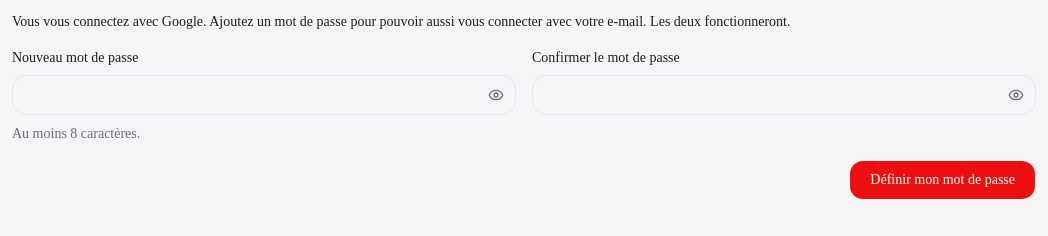
it: PasswordCard › lets a Google account set its first password, then switches to the change form
expect the field labelled "Mot de passe actuel" is not shown: met
Step 1. Type "GoogleThenLocal2026!" into the password field labelled "Nouveau mot de passe" → (264, 95), box [12,75,516,115]
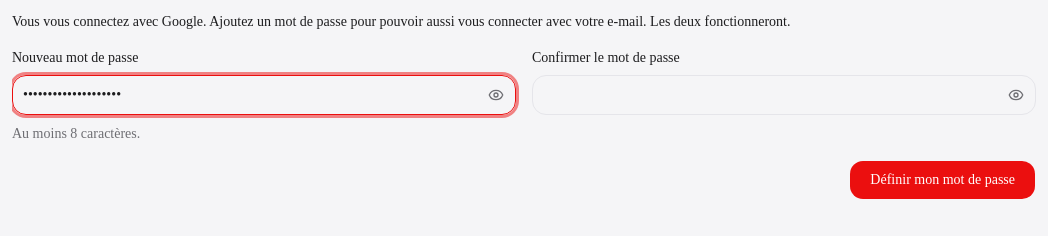
Step 2. Type "GoogleThenLocal2026!" into the password field labelled "Confirmer le mot de passe" → (784, 95), box [532,75,1036,115]
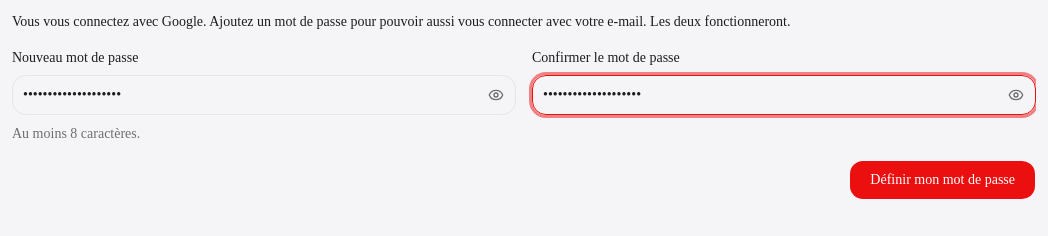
Step 3. Click the button "Définir mon mot de passe" → click(943, 180), box [849,160,1036,200]
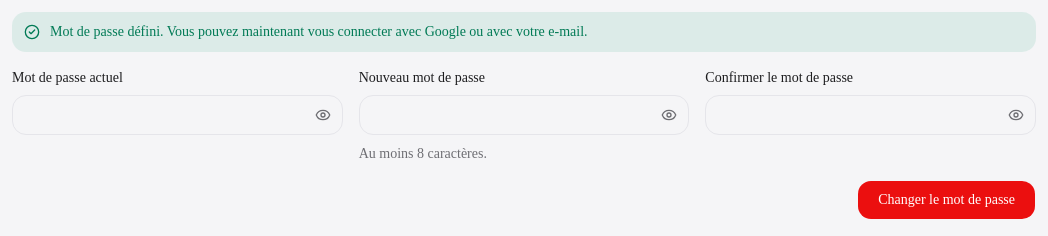
expect the message shows "Mot de passe défini.": met, box [50,24,588,39]
expect the password field labelled "Mot de passe actuel" is shown: met, box [12,95,343,135]
